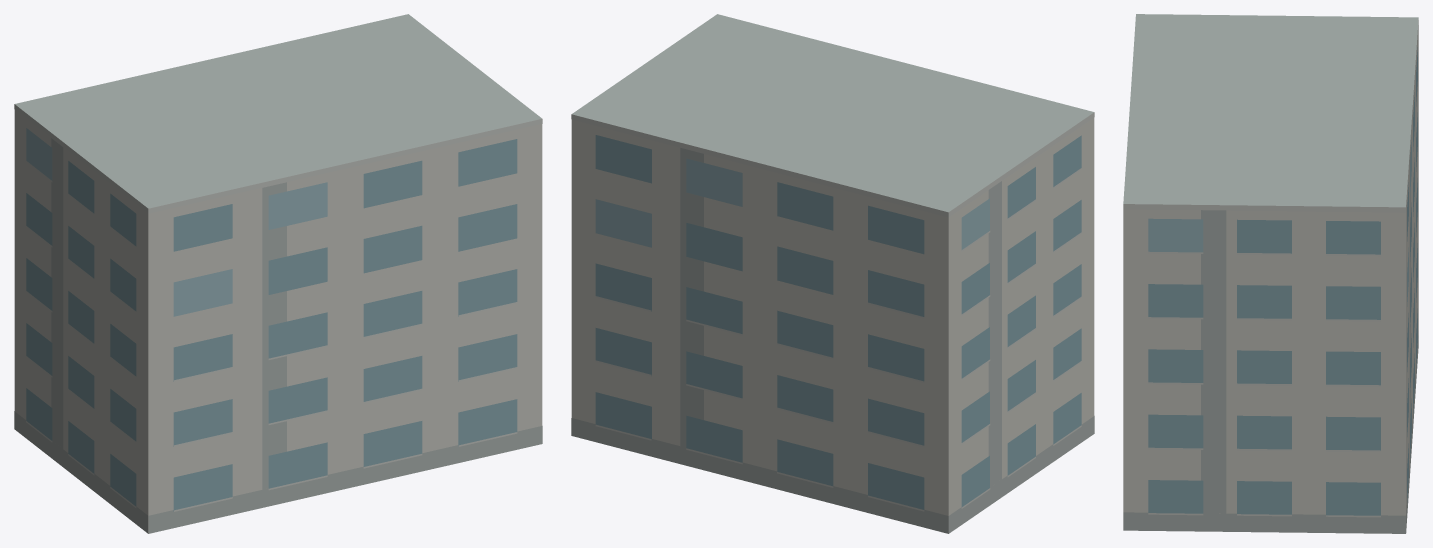
The model's file is survey-upis-32760135.glb.
3 views of the same model, side by side, from view 1: azimuth 30°, elevation 25°; view 2: azimuth 150°, elevation 25°; view 3: azimuth 270°, elevation 25° (orthographic).
Visible parts, largest first — view 1: survey-upis-32760135.tmp; view 2: survey-upis-32760135.tmp; view 3: survey-upis-32760135.tmp.
Boxes of the visible parts, box(x1,y1,x2,y2) form: survey-upis-32760135.tmp: box(14, 14, 542, 533); survey-upis-32760135.tmp: box(571, 14, 1094, 533); survey-upis-32760135.tmp: box(1123, 14, 1418, 533).
Size of the model in its own units: 19.37 by 15.25 by 12.51.
